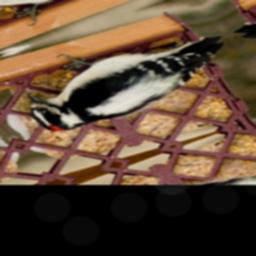Woodpecker: (0, 10, 255, 138)
